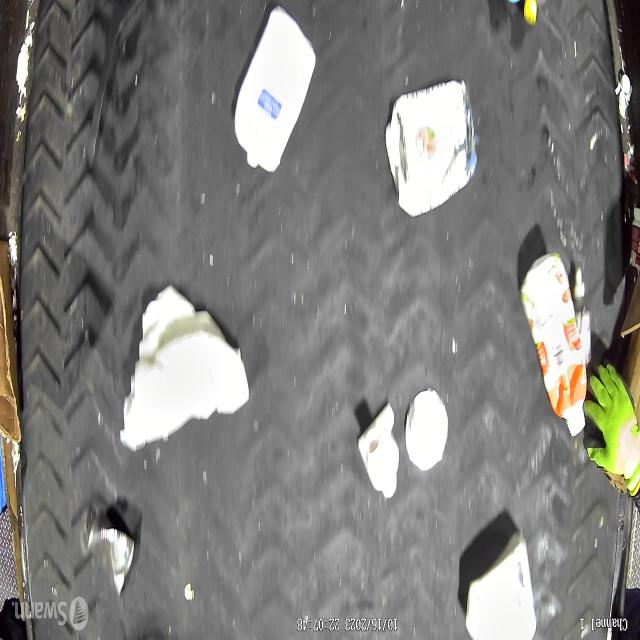can: (86, 518, 135, 594)
milk_jug: (464, 530, 537, 640)
non_white_jug: (234, 5, 316, 174), (522, 256, 592, 441)
